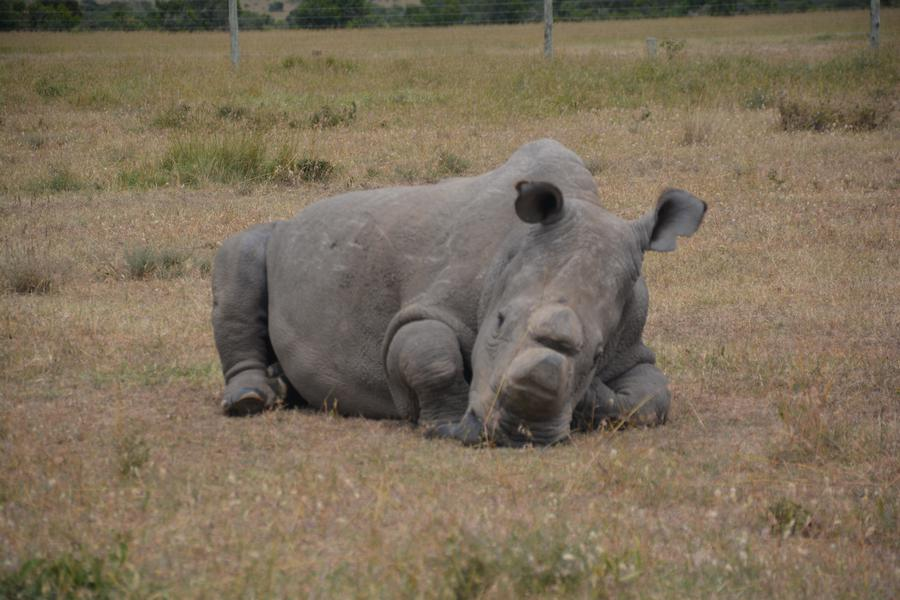rhino: (199, 136, 699, 417)
